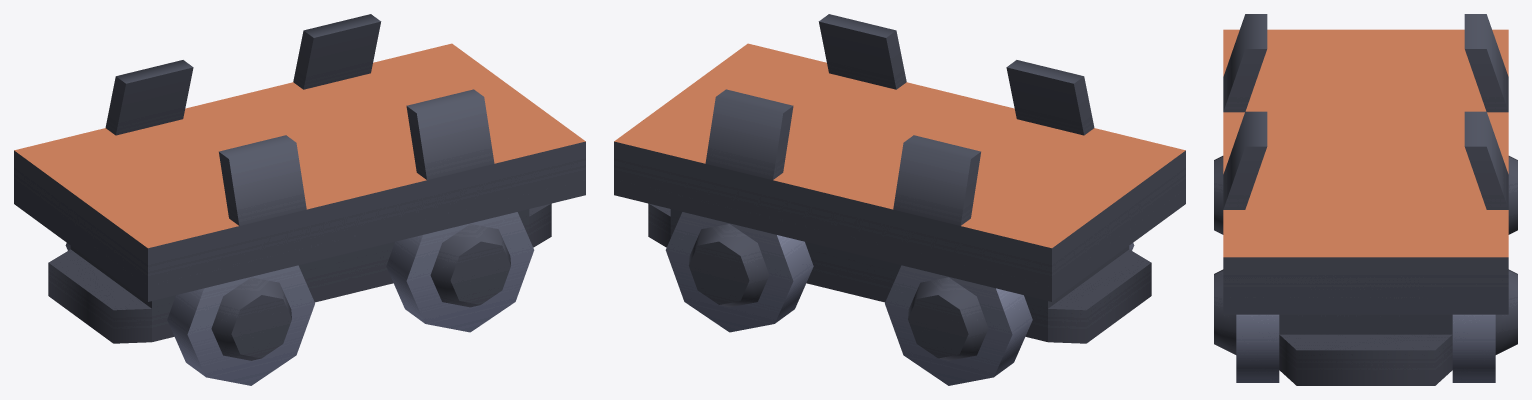
The model's file is train-wagon-flat-short.glb.
The picture shows the model from 3 angles, left to right: view 1: azimuth 30°, elevation 25°; view 2: azimuth 150°, elevation 25°; view 3: azimuth 270°, elevation 25°; orthographic projection. The views are drawn at different scales.
Parts seen in each view (by area): view 1: train-wagon-flat-short; view 2: train-wagon-flat-short; view 3: train-wagon-flat-short.
Part boxes in pixels (box(x1,y1,x2,y2)): train-wagon-flat-short: box(14, 14, 585, 385); train-wagon-flat-short: box(614, 14, 1185, 385); train-wagon-flat-short: box(1214, 14, 1517, 385).
Bounding box in the file's own units: 1.04 × 0.5161 × 0.5848.
1 material, 1 textured.
